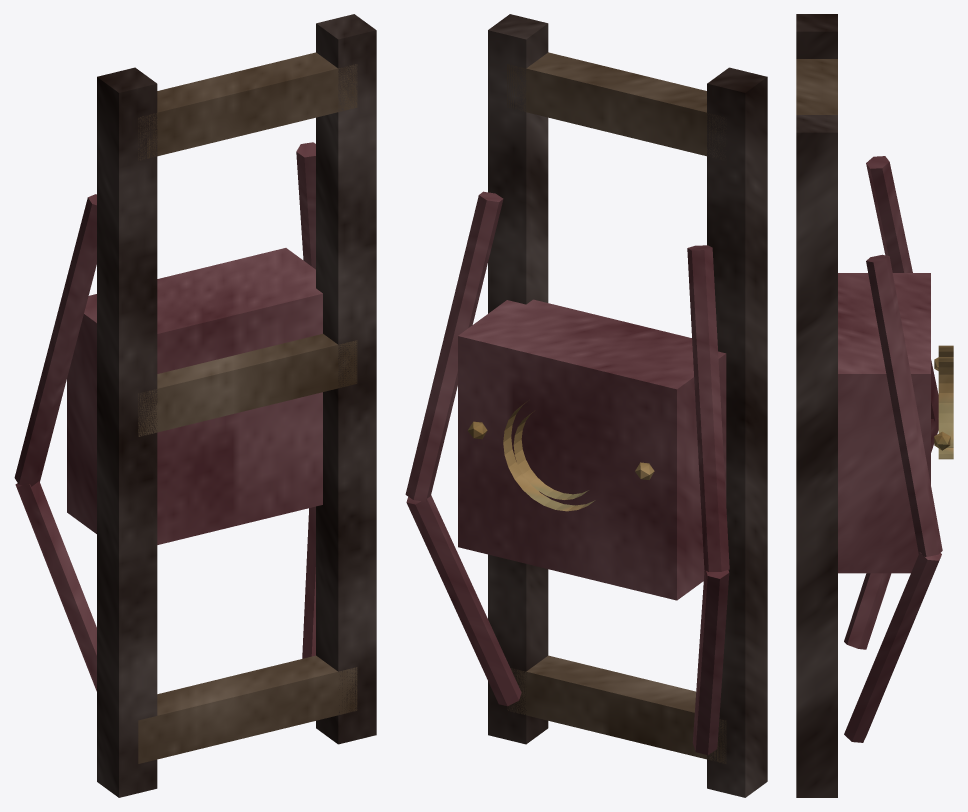
The model's file is 0831_carrier_frame_06.glb.
The picture shows the model from 3 angles, left to right: view 1: azimuth 30°, elevation 25°; view 2: azimuth 150°, elevation 25°; view 3: azimuth 270°, elevation 25°; orthographic projection. The views are drawn at different scales.
Parts seen in each view (by area): view 1: wood_dark, cloth, wood; view 2: cloth, wood_dark, wood, brass; view 3: cloth, wood_dark, wood, brass.
Boxes of the visible parts, box(x1,y1,x2,y2) form: wood_dark: box(97, 14, 376, 797); cloth: box(14, 142, 322, 691); wood: box(138, 52, 357, 763); cloth: box(405, 191, 729, 755); wood_dark: box(488, 14, 767, 797); wood: box(507, 52, 726, 763); brass: box(467, 401, 654, 511); cloth: box(838, 156, 942, 742); wood_dark: box(796, 14, 837, 797); wood: box(796, 59, 837, 114); brass: box(934, 345, 953, 459).
Bounding box in the file's own units: 0.921 × 1.94 × 0.415.
4 materials, 4 textured.
